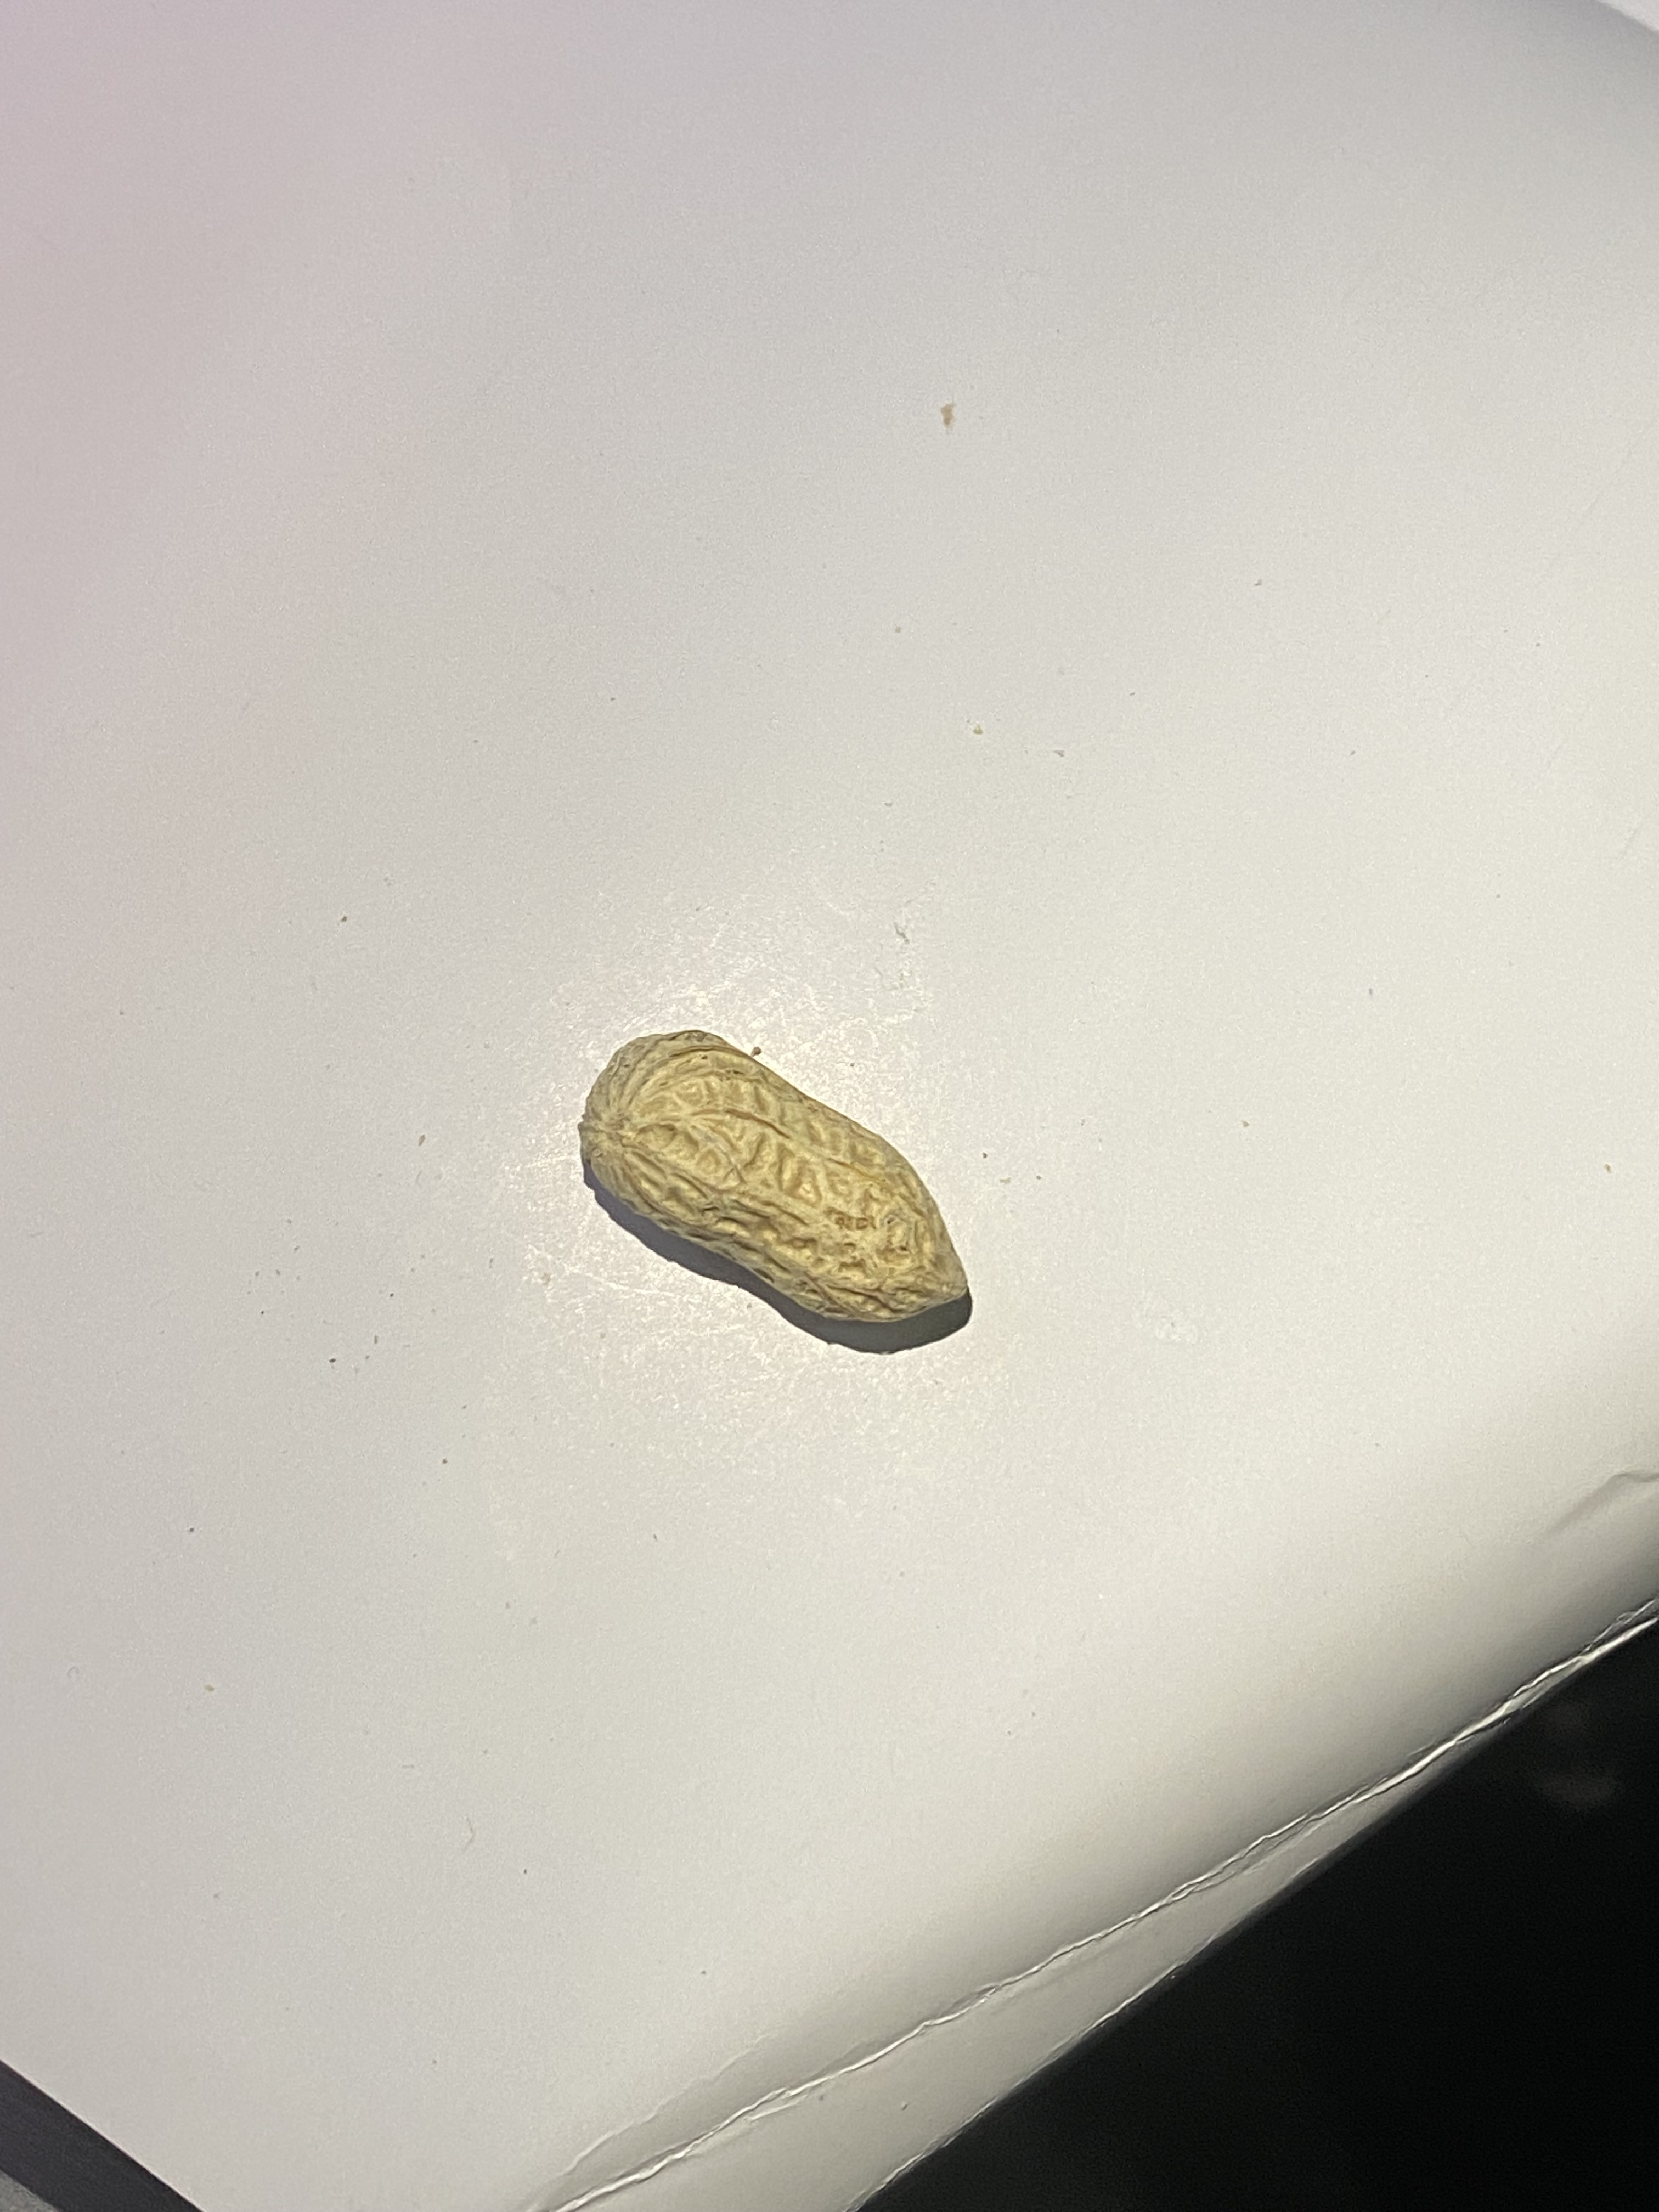kacang2: (549, 1014, 983, 1360)
